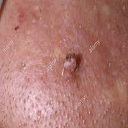Wart: (56, 54, 86, 77)
